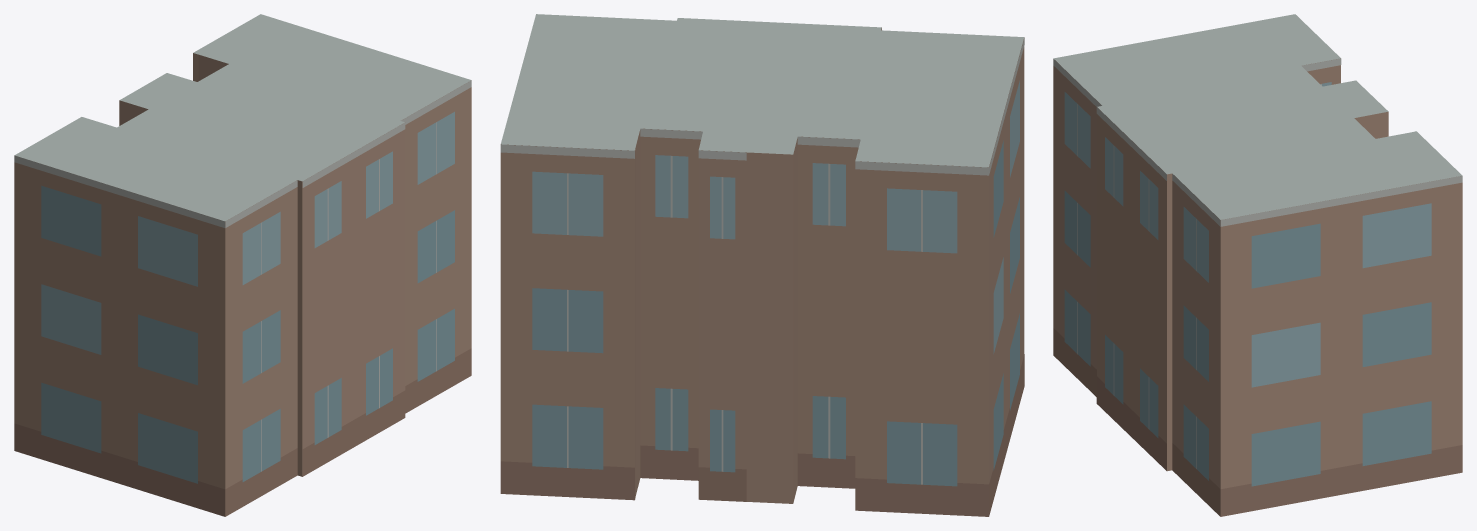
Rendered from survey-upis-32965636.glb.
The picture shows the model from 3 angles, left to right: view 1: azimuth 30°, elevation 25°; view 2: azimuth 150°, elevation 25°; view 3: azimuth 270°, elevation 25°; orthographic projection. The views are drawn at different scales.
Parts seen in each view (by area): view 1: survey-upis-32965636.tmp; view 2: survey-upis-32965636.tmp; view 3: survey-upis-32965636.tmp.
Boxes of the visible parts, box(x1,y1,x2,y2) form: survey-upis-32965636.tmp: box(14, 14, 471, 516); survey-upis-32965636.tmp: box(500, 14, 1024, 516); survey-upis-32965636.tmp: box(1053, 14, 1462, 516).
Bounding box in the file's own units: 15.63 × 10.5 × 13.13.
